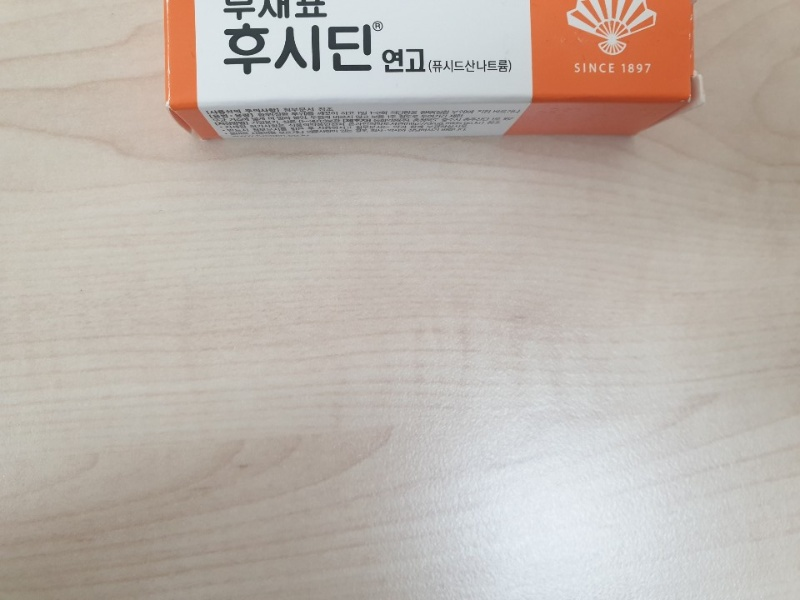fucidin: (165, 1, 689, 137)
